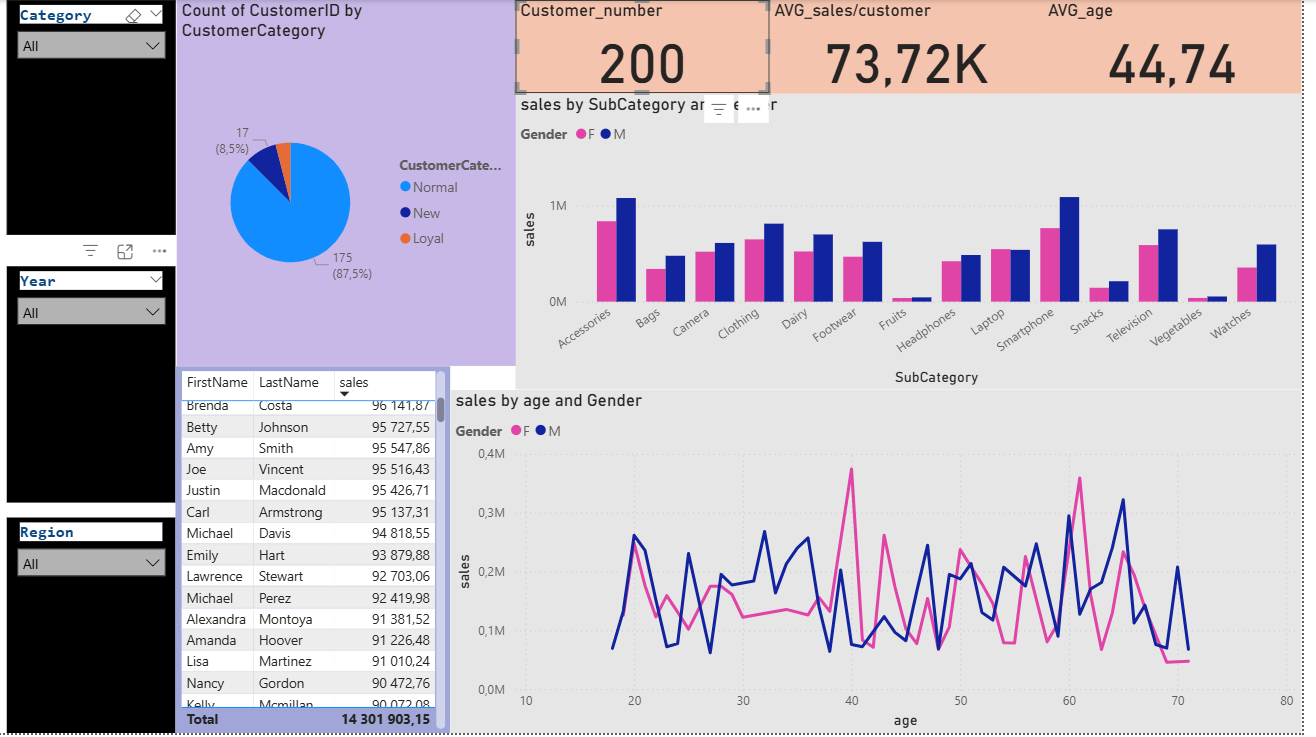

The dashboard page shown, as its layout file describes it:
{"tool":"powerbi","page":{"name":"Customers_analysis","canvas":[1280,720],"ordinal":2},"visuals":[{"type":"slicer","fields":{"Values":["Products.Category"]},"box":[8.6,0,165.6,230.7],"z":0},{"type":"slicer","fields":{"Values":["Calendar.Year"]},"box":[8.6,261.4,165.6,231.9],"z":1000},{"type":"slicer","fields":{"Values":["Stores.Region"]},"box":[8.6,507.7,165.6,212.3],"z":2000},{"type":"tableEx","fields":{"Values":["Customers.FirstName","Customers.LastName","Transactions.sales"]},"box":[174.2,359.5,269.9,360.7],"z":3000},{"type":"card","title":"AVG_age","fields":{"Values":["Customers.age"]},"box":[1025.8,0,254,92],"z":4000},{"type":"card","title":"Customer_number","fields":{"Values":["Customers.CustomerID"]},"box":[508,0,249.1,92],"z":5000},{"type":"clusteredColumnChart","fields":{"Category":["Products.Category Hierarchy.Category","Products.Category Hierarchy.SubCategory"],"Series":["Customers.Gender"],"Y":["Transactions.sales"]},"box":[508,92,771.8,290.8],"z":6000},{"type":"lineChart","fields":{"Category":["Customers.age"],"Y":["Transactions.sales"],"Series":["Customers.Gender"]},"box":[444.2,382.8,835.6,337.4],"z":7000},{"type":"card","title":"AVG_sales/customer","fields":{"Values":["Transactions.SalesAmount"]},"box":[757.1,0,268.7,92],"z":8000},{"type":"pieChart","fields":{"Category":["Transactions.CustomerCategory"],"Y":["Transactions.CustomerID"]},"box":[175.5,0,332.5,359.5],"z":9000}]}

Visuals, with their boxes in screenshot pixels (x1, y1, x2, y2), scaled from the page's 1280x720 canvas onto the 1316x737 screenshot:
slicer - Products.Category: bbox(9, 0, 179, 236)
slicer - Calendar.Year: bbox(9, 268, 179, 505)
slicer - Stores.Region: bbox(9, 520, 179, 736)
tableEx - Customers.FirstName x Customers.LastName: bbox(179, 368, 457, 736)
"AVG_age" card: bbox(1055, 0, 1315, 94)
"Customer_number" card: bbox(522, 0, 778, 94)
clusteredColumnChart - Products.Category Hierarchy.Category x Products.Category Hierarchy.SubCategory: bbox(522, 94, 1315, 392)
lineChart - Customers.age x Transactions.sales: bbox(457, 392, 1315, 736)
"AVG_sales/customer" card: bbox(778, 0, 1055, 94)
pieChart - Transactions.CustomerCategory x Transactions.CustomerID: bbox(180, 0, 522, 368)
